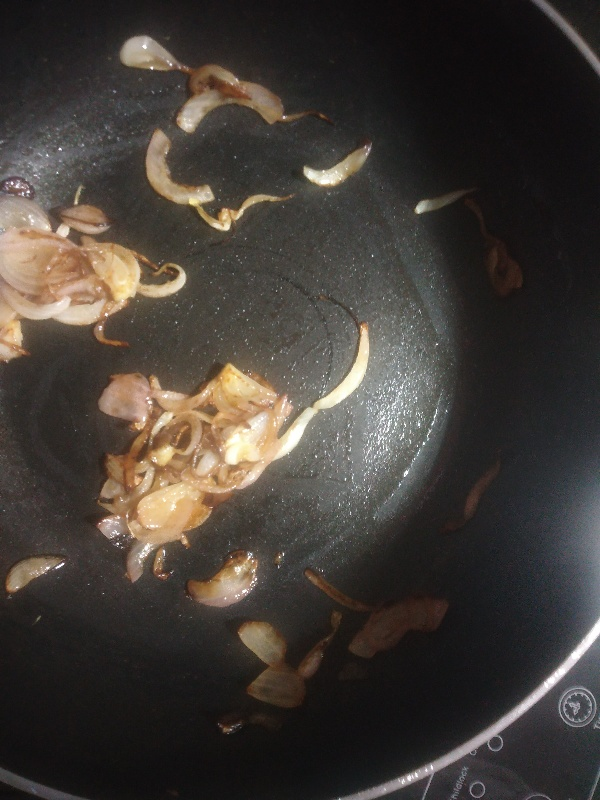onion_fried: (101, 366, 310, 572), (1, 193, 186, 339)
